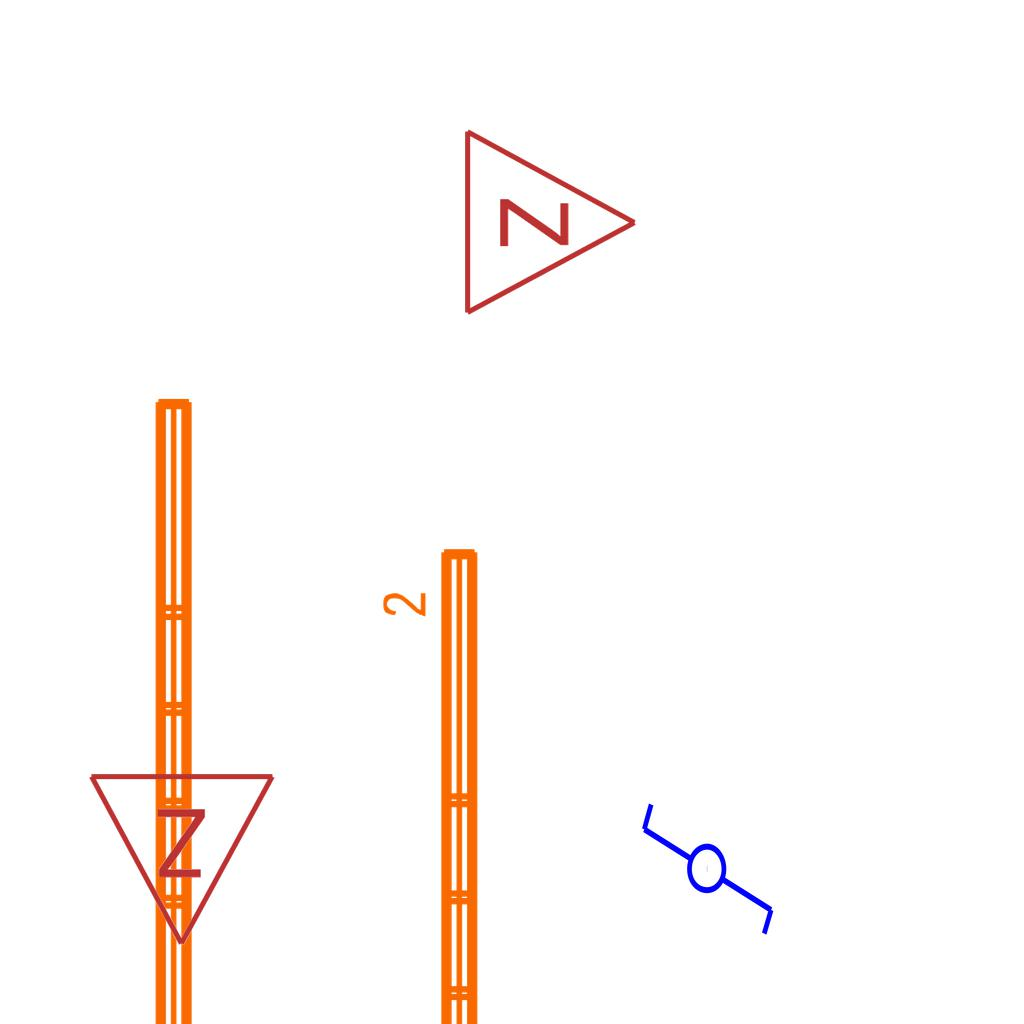Ambulanz_Pendelleuchte_LED: (143, 388, 255, 1024), (378, 540, 490, 1024)
Wechselschalter: (637, 782, 781, 939)
Zimmersignalleuchte: (86, 759, 282, 959), (450, 122, 650, 318)
